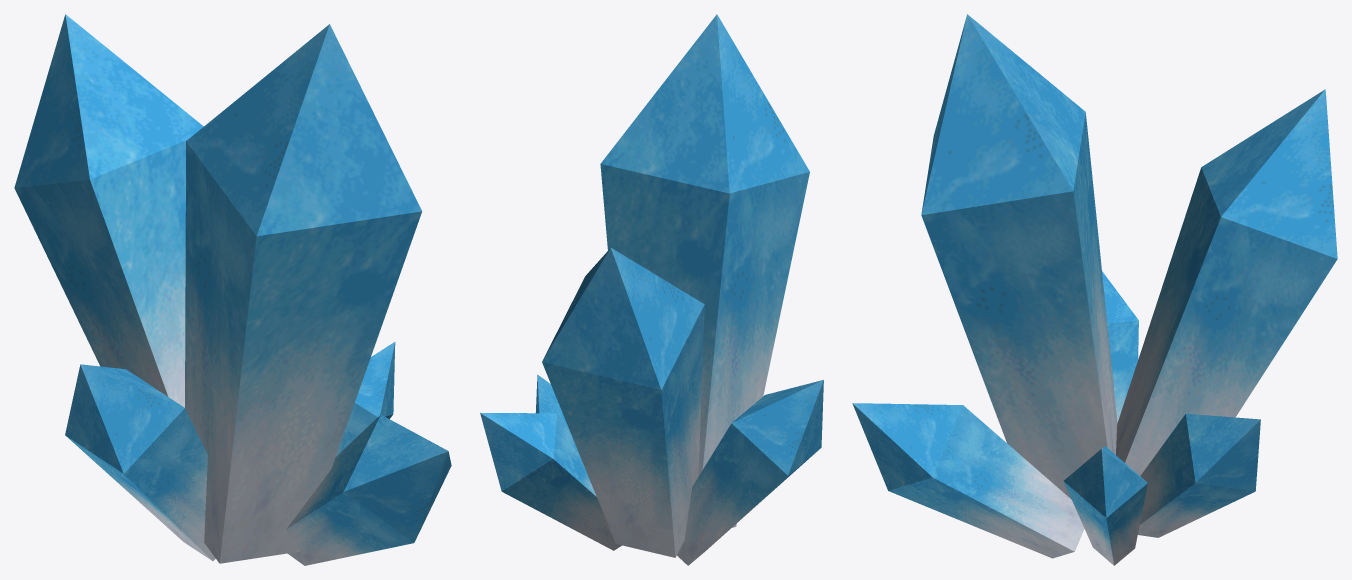
File: Ice_icecake02.FBX
3 views of the same model, side by side, from view 1: azimuth 30°, elevation 25°; view 2: azimuth 150°, elevation 25°; view 3: azimuth 270°, elevation 25° (orthographic). The views are drawn at different scales.
Parts seen in each view (by area): view 1: Box042; view 2: Box042; view 3: Box042.
Boxes of the visible parts, x1,y1,x2,y2 form: Box042: [14, 14, 451, 565]; Box042: [480, 14, 823, 565]; Box042: [852, 14, 1337, 565].
Bounding box in the file's own units: 297 × 505 × 415.
